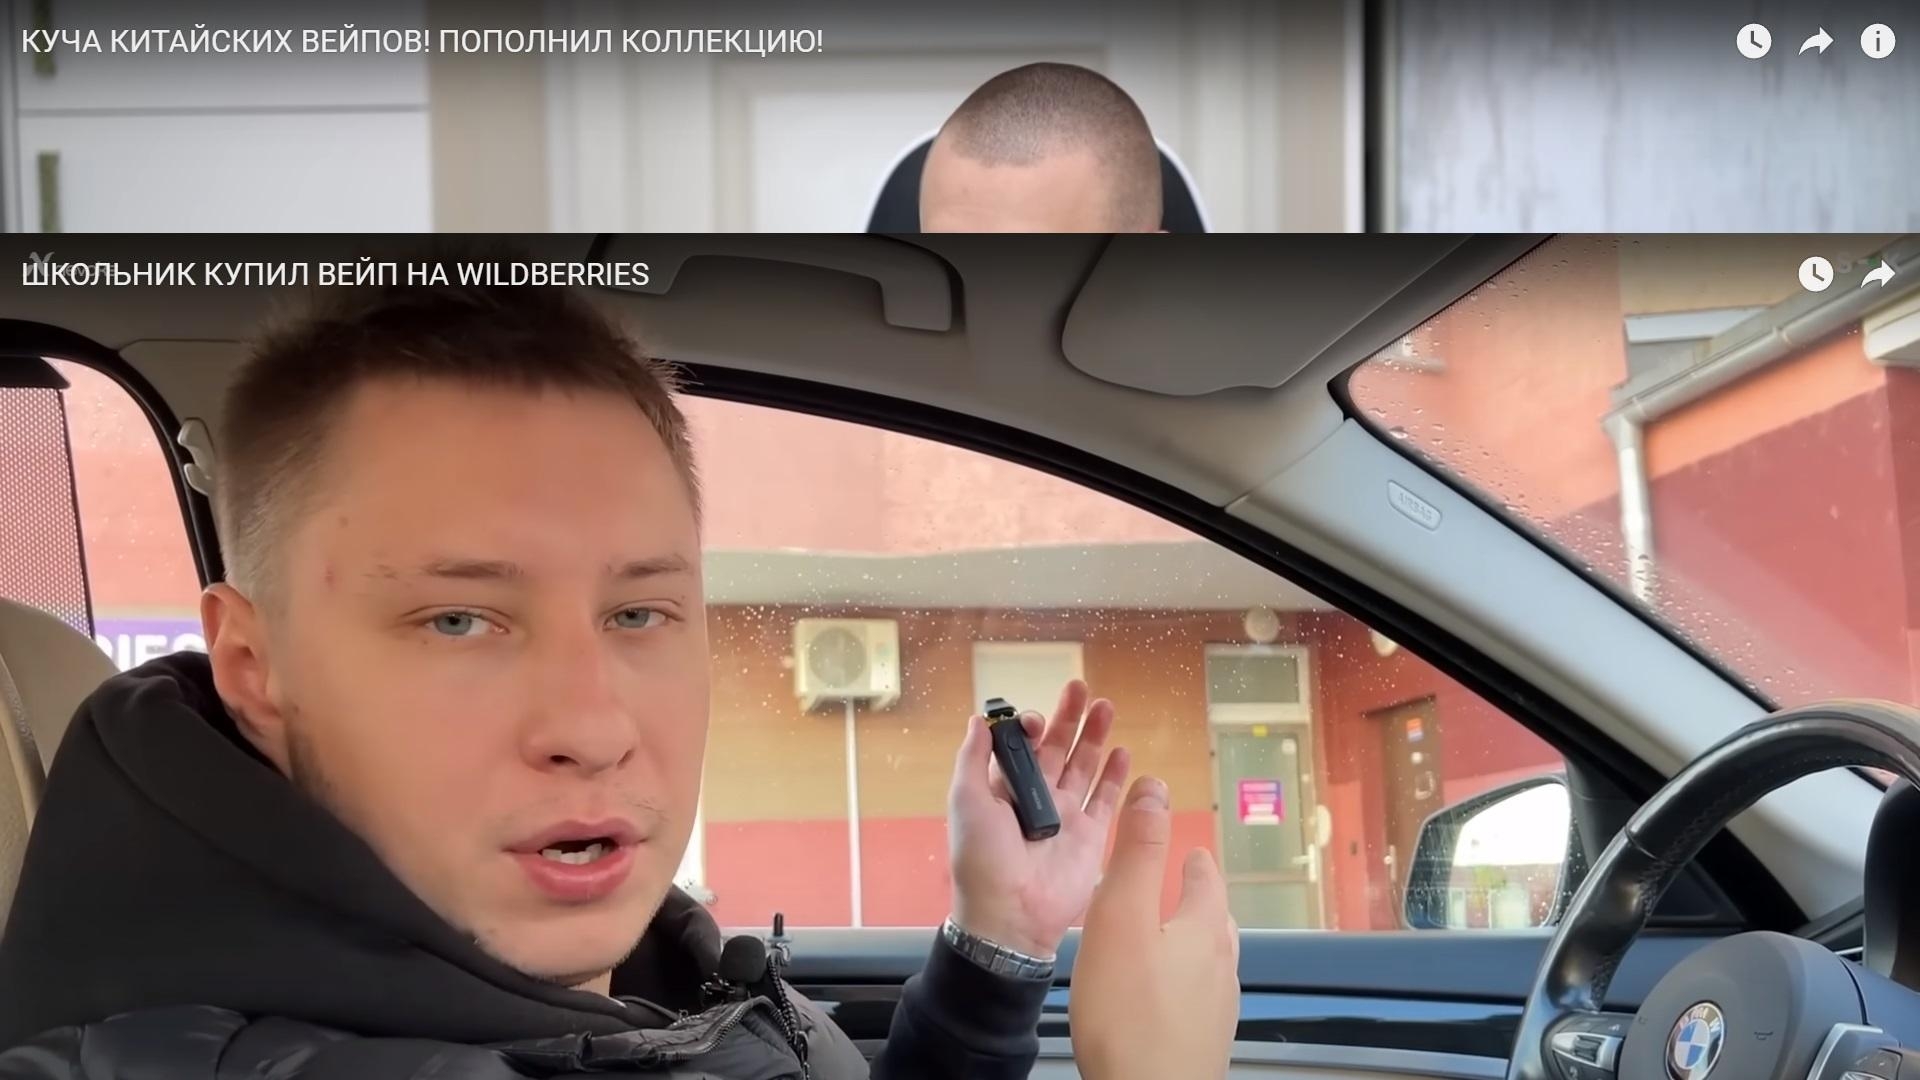Vape: (985, 698, 1062, 840)
